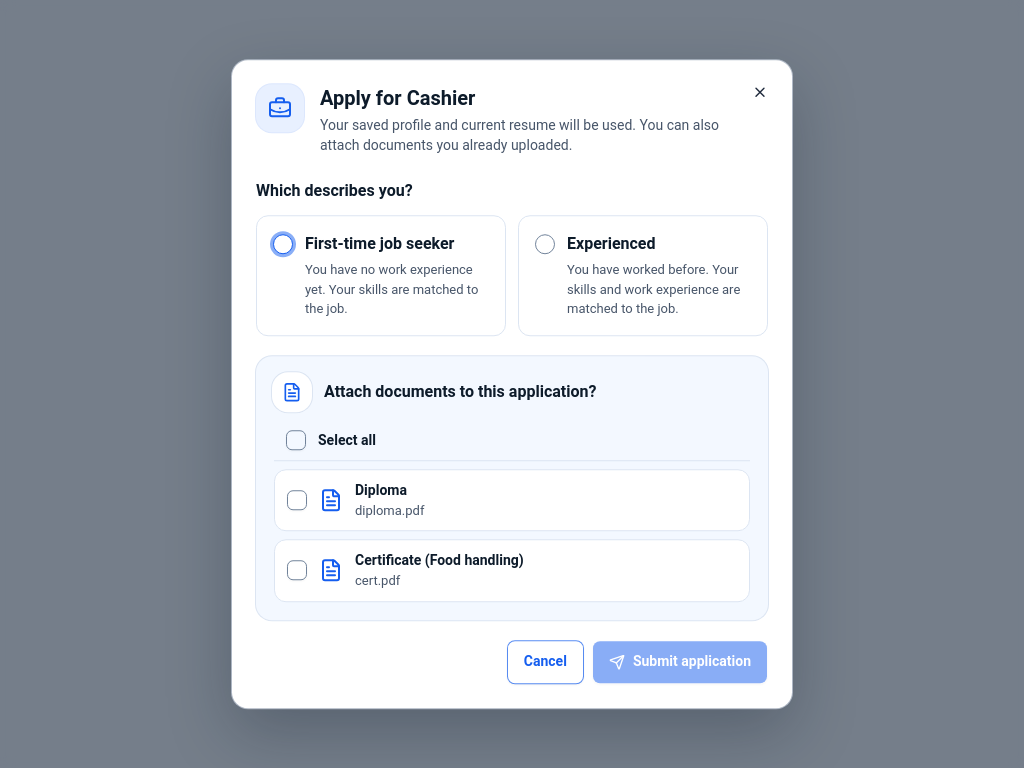
ApplyDialog › shows a prescreen failure with the condition named in the message
Step 1. Click the radio button named "First-time job seeker" next to "First-time job seeker" → (283, 244), box [273,234,293,254]
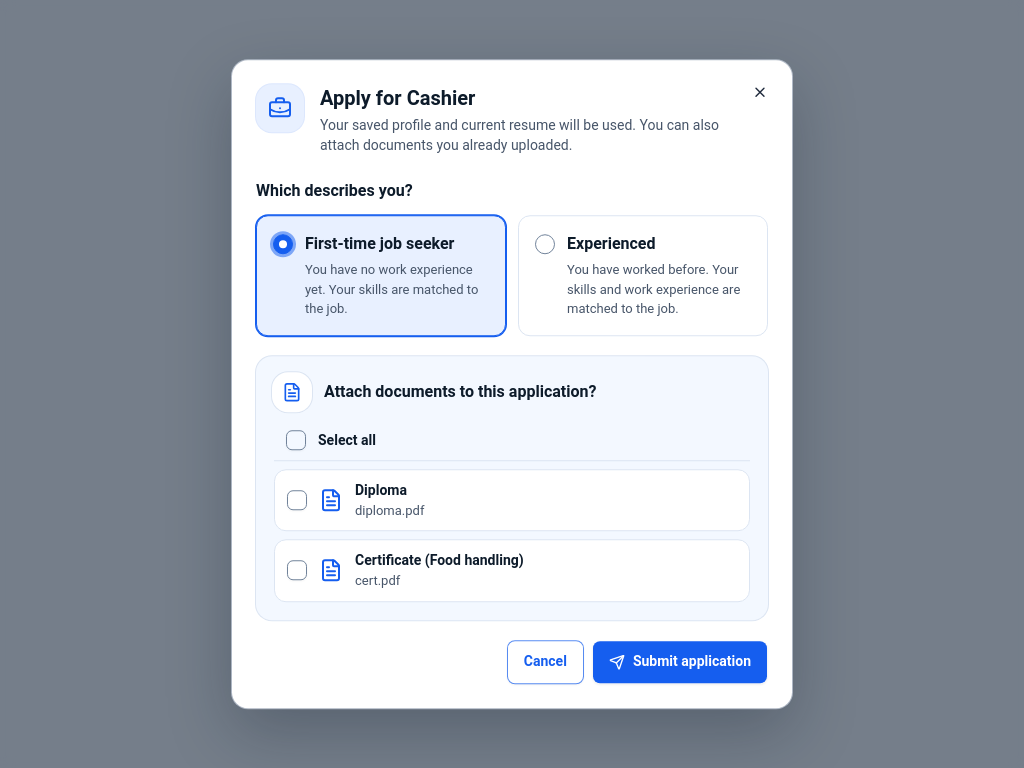
Step 2. Click the button "Submit application" → (680, 662), box [592,640,768,684]
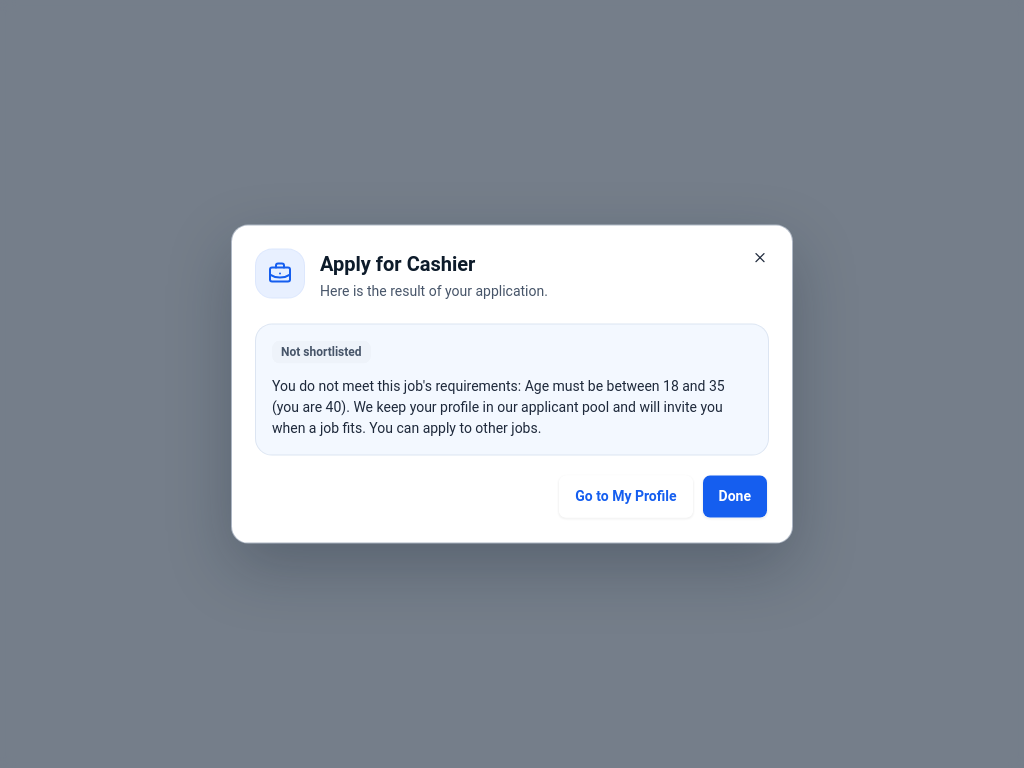
Expected: the text "Not shortlisted" is shown, [272,341,371,363]
Expected: the text "We keep your profile in our applicant pool" is shown, [272,377,725,435]
